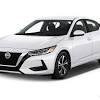Nissan: (1, 16, 100, 75)
